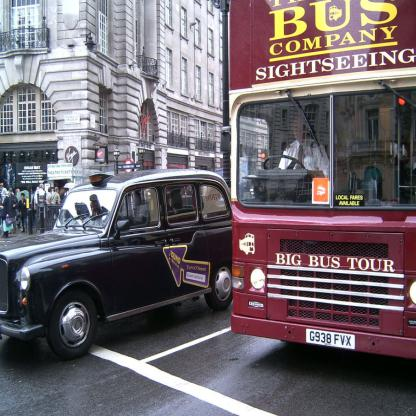Bus: (228, 0, 416, 360)
